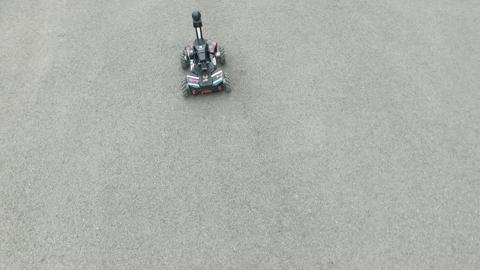chariot: (178, 10, 232, 98)
